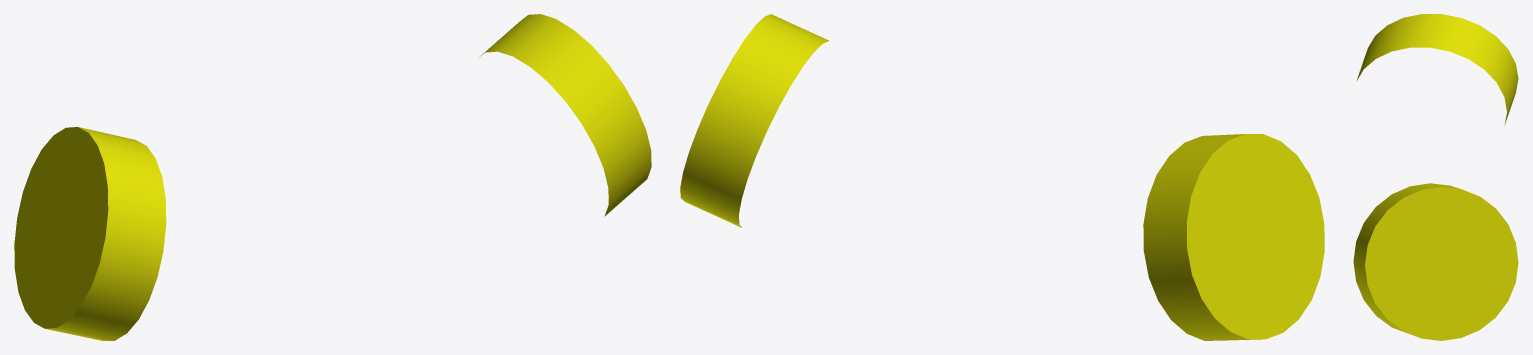
The model's file is Cap1_114.glb.
3 views of the same model, side by side, from view 1: azimuth 30°, elevation 25°; view 2: azimuth 150°, elevation 25°; view 3: azimuth 270°, elevation 25° (orthographic). The views are drawn at different scales.
Bounding box in the file's own units: 51.75 × 16.59 × 16.77.
